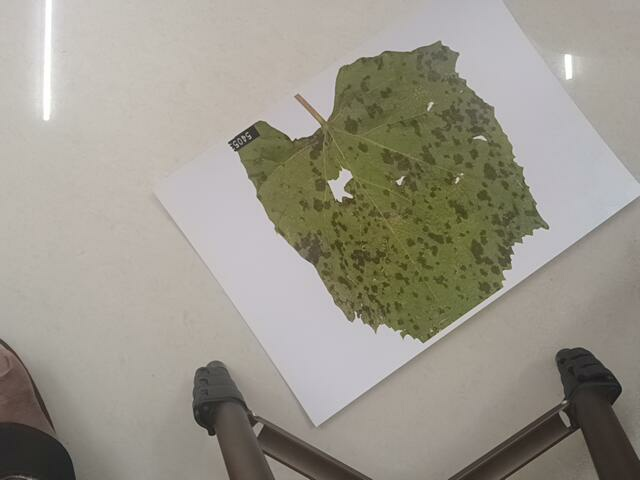Grape_Blight_Leaf: (208, 41, 555, 342)
